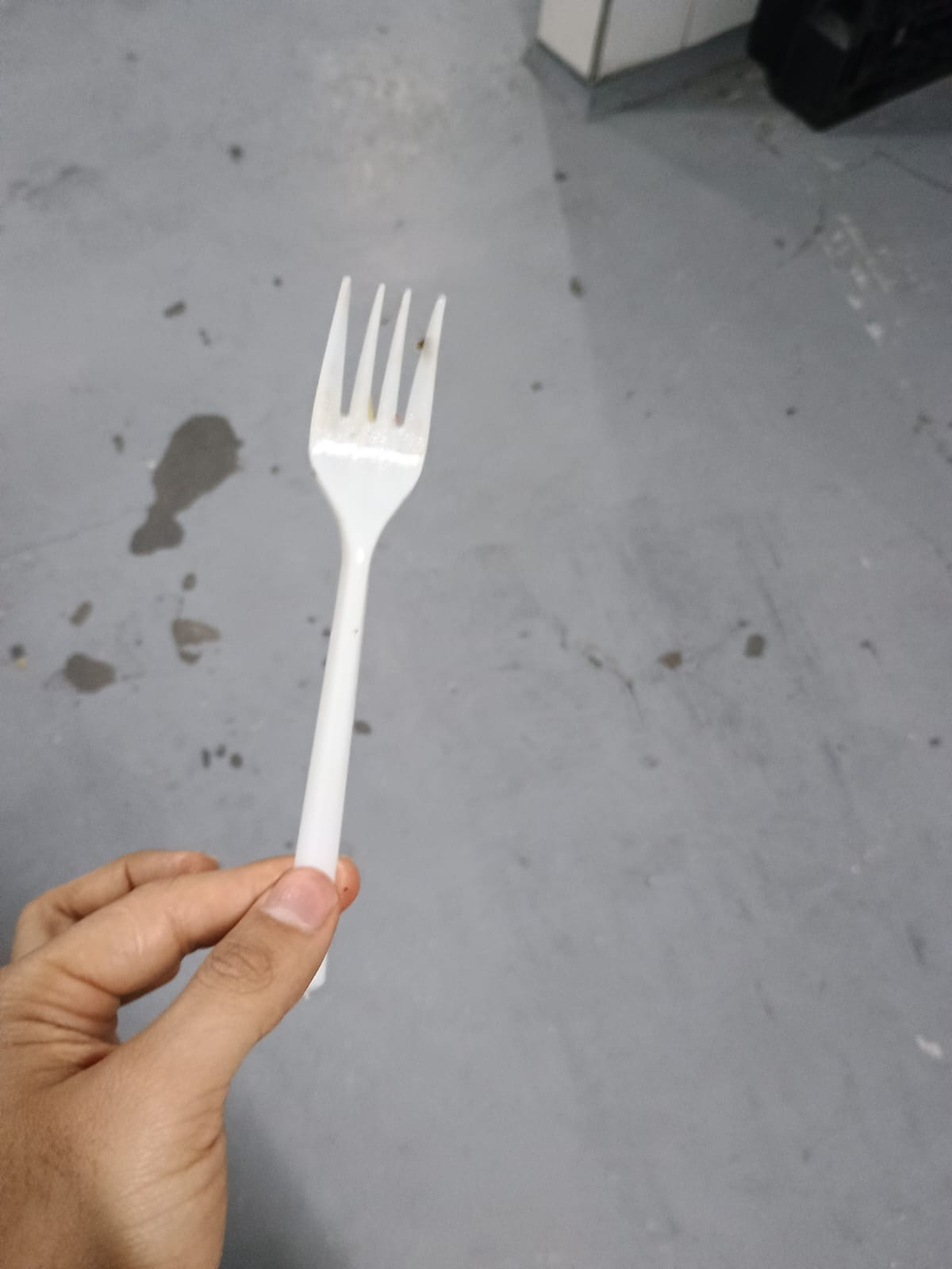Ordinario: (296, 280, 448, 881)
